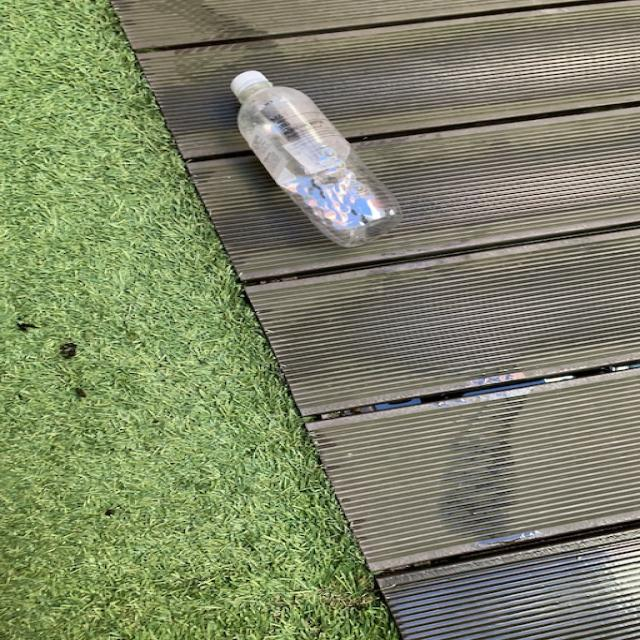Waste: (231, 71, 401, 247)
